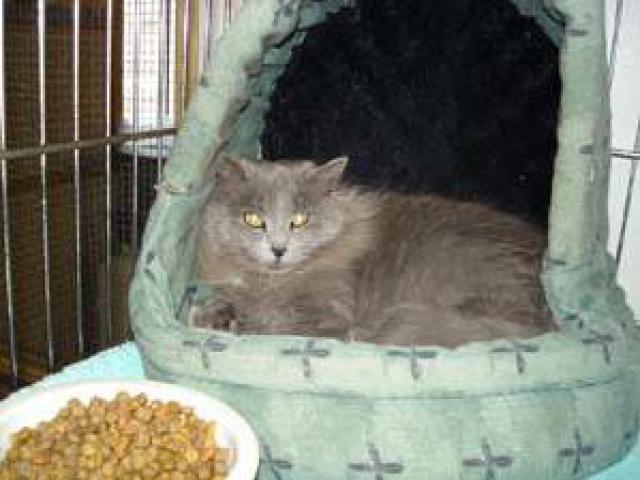cat: (189, 148, 557, 343)
